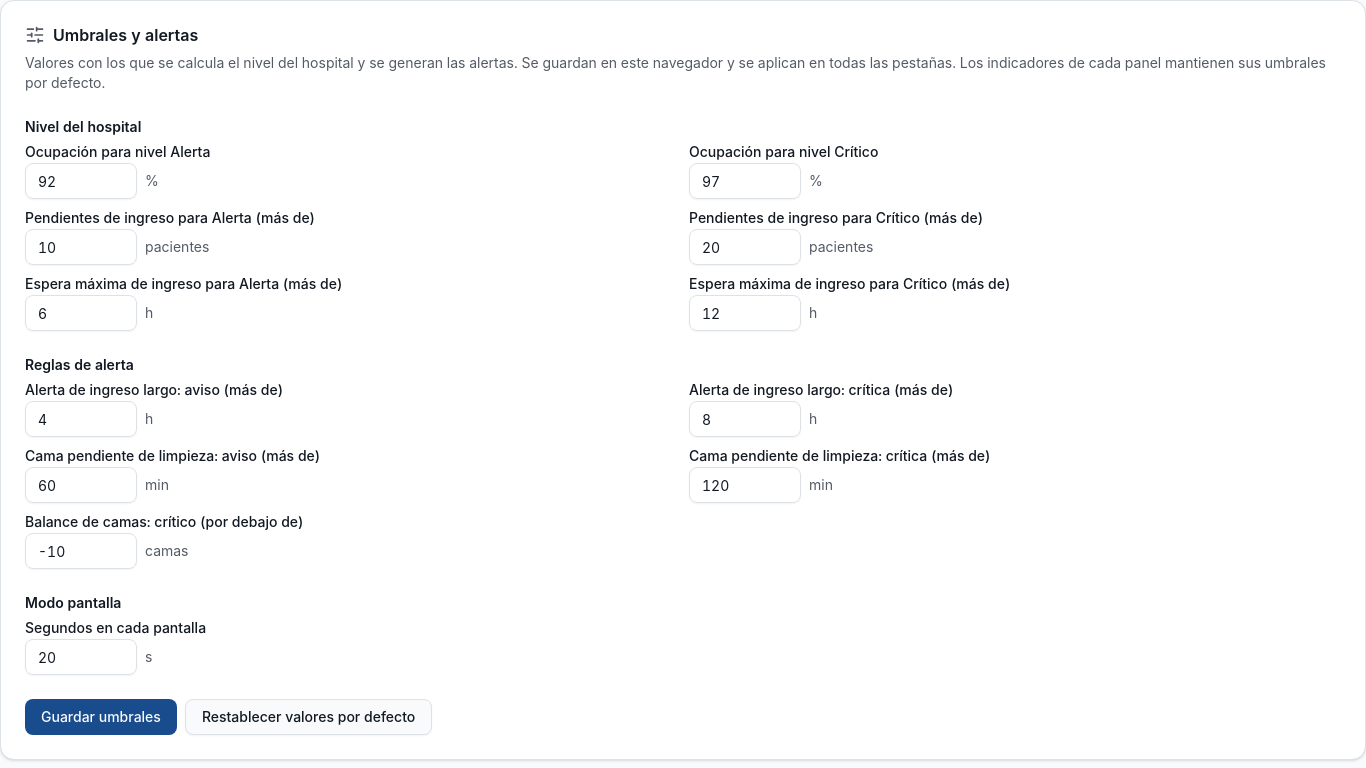
Test: ThresholdsCard › refuses out-of-range values and warn ≥ critical, marking the fields and saving nothing
Replace the text in the field labelled "Segundos en cada pantalla" with "2" at (81, 657), box [25,639,137,675]
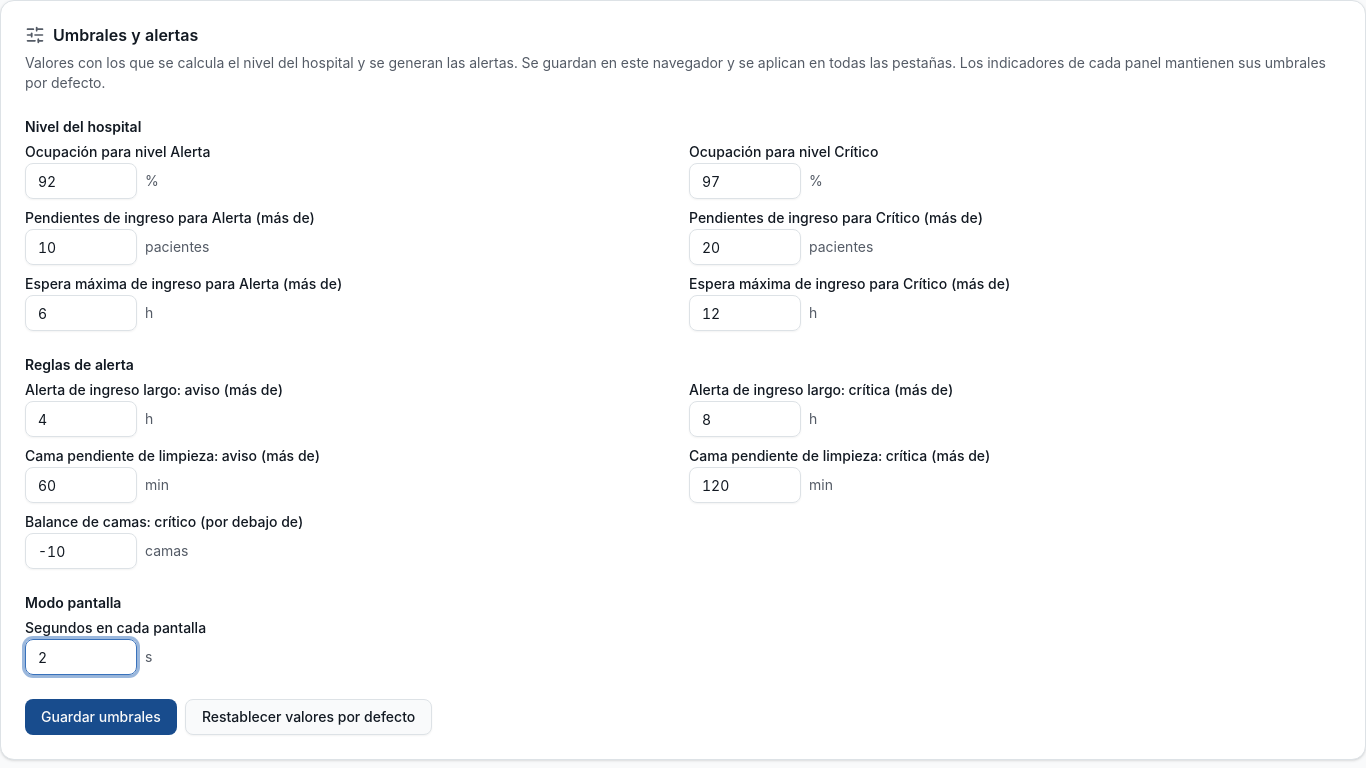
Replace the text in the field labelled "Alerta de ingreso largo: crítica (más de)" with "3" at (745, 419), box [689,401,801,437]
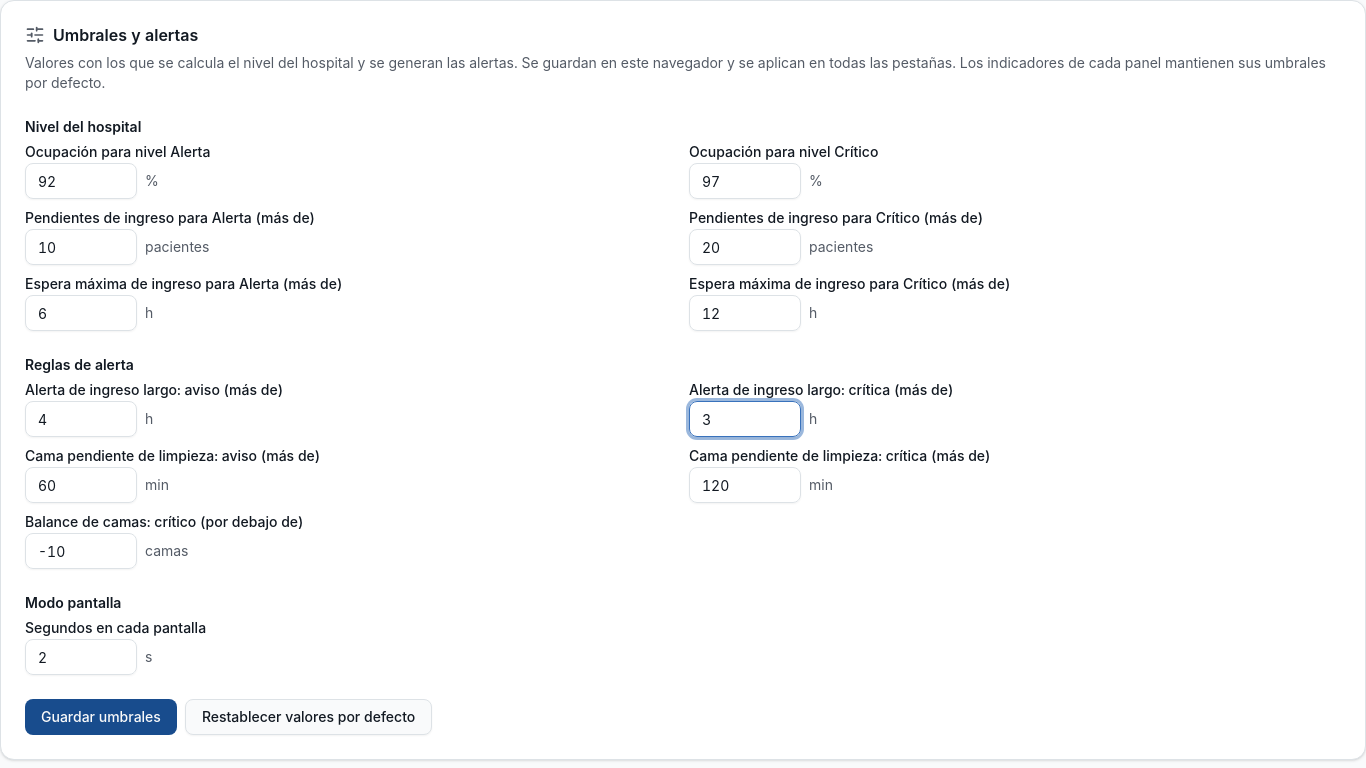
Click the button "Guardar umbrales".
click(101, 717)  # box [25,699,177,735]
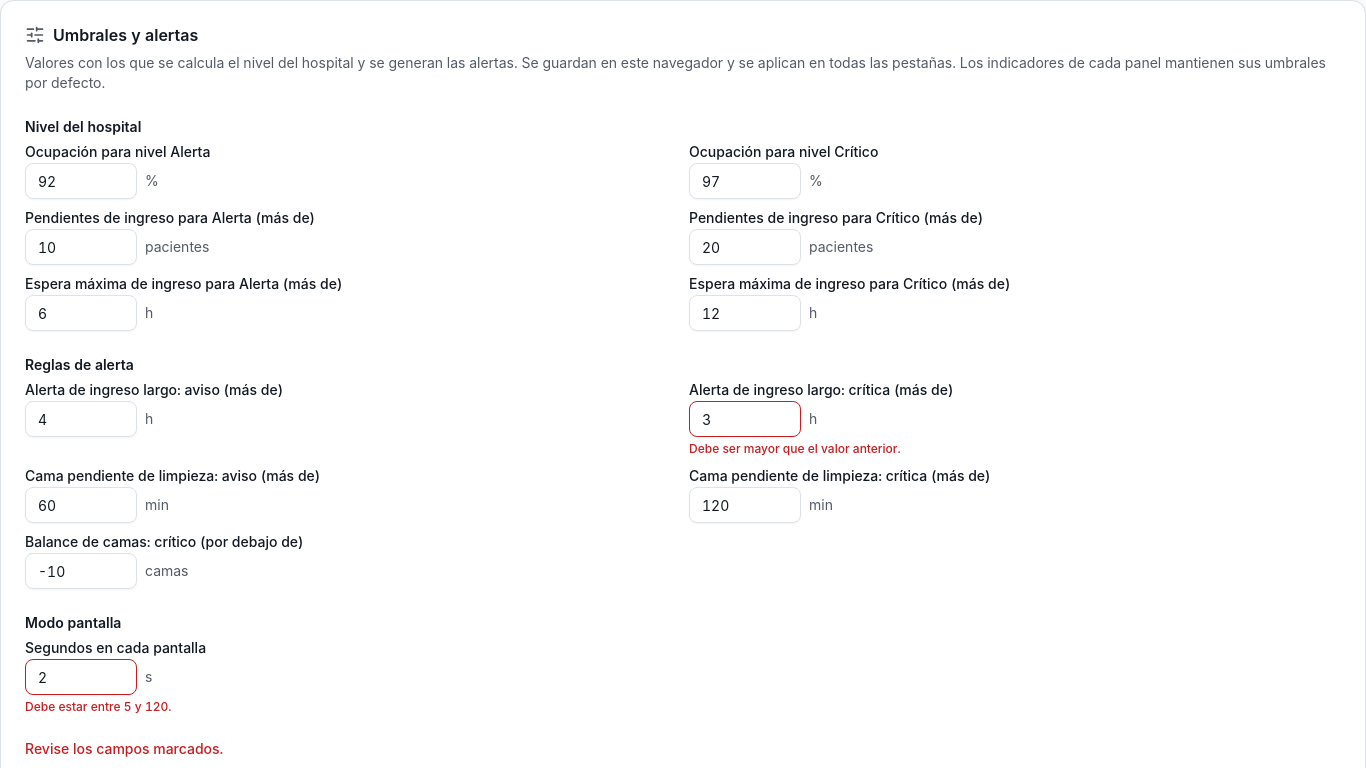
Expected: the message reads "Revise los campos marcados.", [25,740,223,757]
Expected: the text "Debe ser mayor que el valor anterior." is shown, [689,441,901,456]
